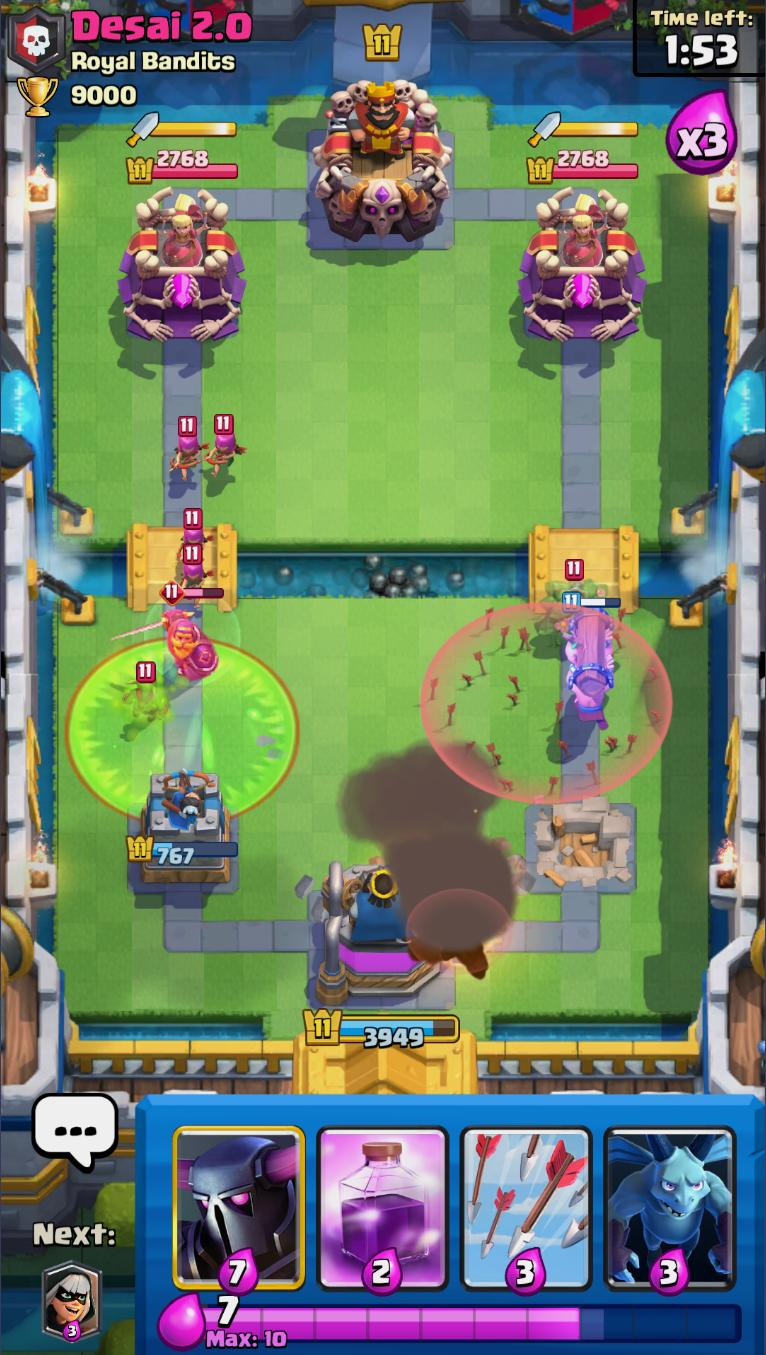Archer: (165, 415, 210, 484), (205, 414, 247, 486), (172, 544, 215, 609), (175, 508, 214, 556)
ArrowDeck: (455, 1096, 599, 1296)
Arrows: (420, 600, 671, 804)
BanditNext: (41, 1260, 103, 1344)
Bush: (535, 558, 622, 649)
Daggers: (526, 109, 641, 150), (126, 111, 239, 148)
Elixir: (204, 1295, 745, 1350)
EnemyTower: (516, 186, 650, 345), (118, 186, 247, 346)
EvoKnight: (114, 581, 226, 683)
Goblin: (120, 660, 170, 726)
GoblinCurse: (66, 634, 303, 823)
KingTower: (311, 76, 455, 245)
MinionsDeck: (596, 1096, 745, 1295)
MyBattleRam: (560, 590, 624, 731)
MyKingHP: (301, 1005, 463, 1051)
MyKingTower: (311, 860, 445, 1009)
MyPrincessTower: (126, 769, 243, 891)
MyPrincessTowerBrocken: (520, 794, 641, 900)
MyPrincessTowerHP: (125, 831, 240, 869)
PekkaDeck: (165, 1096, 312, 1294)
RageDeck: (310, 1096, 456, 1296)
TowerPrincessHP: (124, 149, 241, 186), (525, 149, 640, 185)
